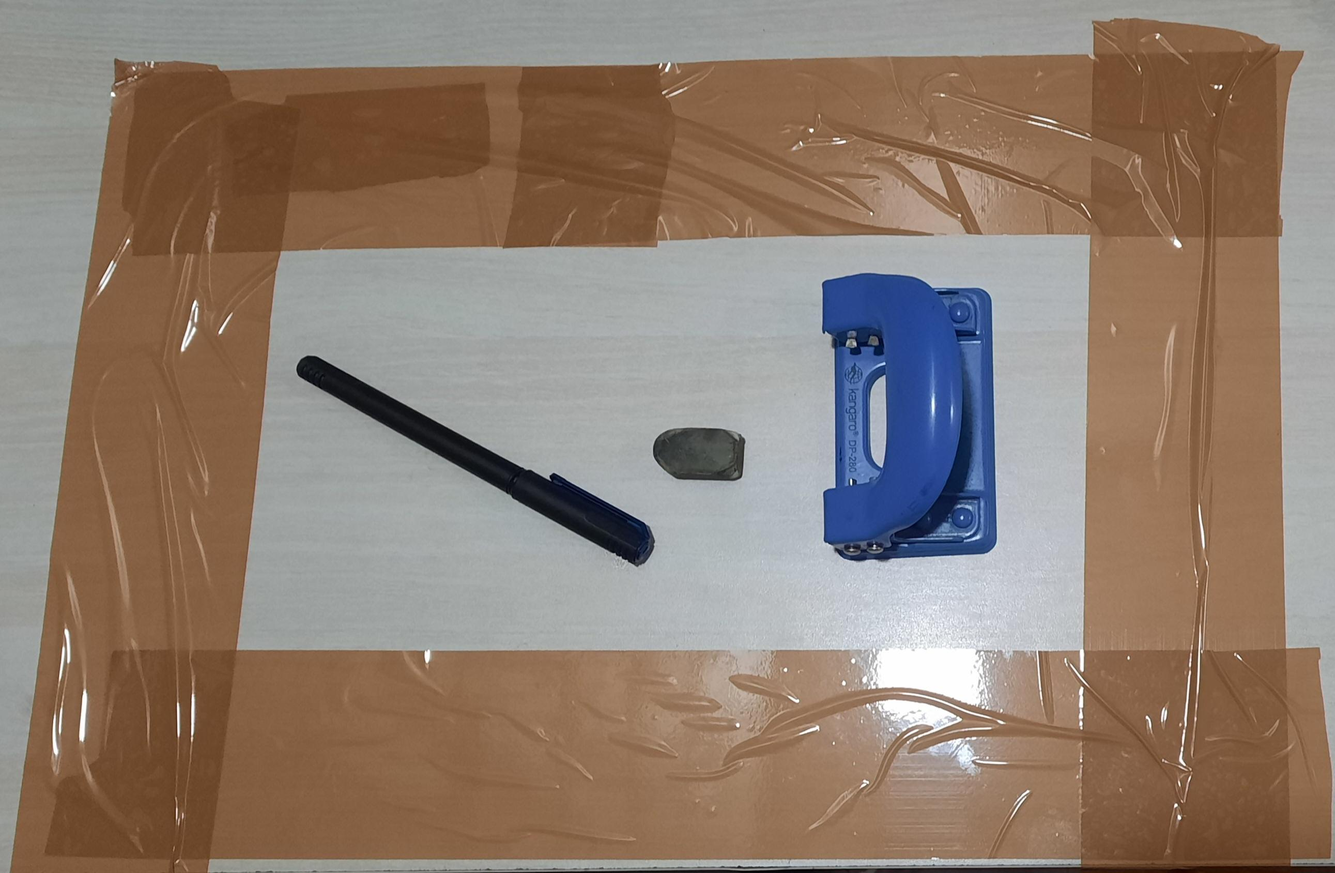Eraser: (652, 427, 746, 481)
Pen: (296, 355, 656, 567)
Punch: (821, 272, 998, 562)
